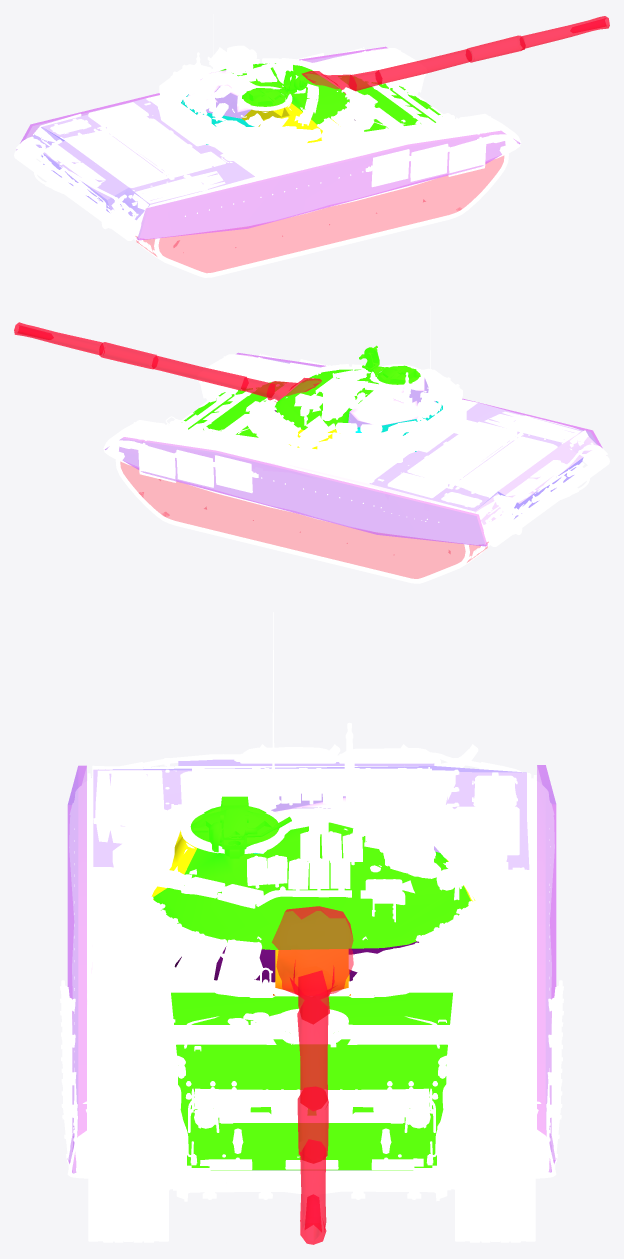
3 renders of one model, top to bottom at view 1: azimuth 30°, elevation 25°; view 2: azimuth 150°, elevation 25°; view 3: azimuth 270°, elevation 25°, orthographic. The views are drawn at different scales.
Visible parts, largest first — view 1: 11, 11_3, T72B3_track_right_col_71, T72B3_sideskirt_col_right_77, 11_1, T72B3_Gun_ColMesh_50, T72B3_Col_3, T72B3_Col, T72B3_Turret_Col, T72B3_Col_1, T72B3_Turret_Col_1, NSVCupola_Mount_Col_80 (+2 smaller); view 2: 11, 11_3, T72B3_track_left_col_65, T72B3_sideskirt_col_left_74, 11_2, T72B3_Gun_ColMesh_50, T72B3_Col_3, T72B3_Col, T72B3_Turret_Col, T72B3_Turret_Col_1, T72B3_Col_1, NSVCupola_Mount_Col_80 (+1 smaller); view 3: 11, 11_3, T72B3_Col_1, T72B3_Turret_Col, T72B3_Gun_ColMesh_50, T72B3_Col, T72B3_sideskirt_col_right_77, T72B3_sideskirt_col_left_74, T72B3_Col_3, 11_2, 11_1, NSVCupola_Mount_Col_80 (+3 smaller).
Part boxes in pixels (<box>): 11: <box>14,47,521,269</box>; 11_3: <box>157,14,377,158</box>; T72B3_track_right_col_71: <box>135,156,503,272</box>; T72B3_sideskirt_col_right_77: <box>136,130,520,240</box>; 11_1: <box>135,135,508,277</box>; T72B3_Gun_ColMesh_50: <box>301,16,609,93</box>; T72B3_Col_3: <box>32,98,254,220</box>; T72B3_Col: <box>137,73,456,219</box>; T72B3_Turret_Col: <box>220,63,349,124</box>; T72B3_Col_1: <box>338,75,440,131</box>; T72B3_Turret_Col_1: <box>188,70,286,118</box>; NSVCupola_Mount_Col_80: <box>242,67,307,106</box>; 11: <box>103,353,609,576</box>; 11_3: <box>248,306,466,464</box>; T72B3_track_left_col_65: <box>120,462,488,578</box>; T72B3_sideskirt_col_left_74: <box>105,437,487,546</box>; 11_2: <box>115,459,488,583</box>; T72B3_Gun_ColMesh_50: <box>14,322,321,402</box>; T72B3_Col_3: <box>369,402,597,524</box>; T72B3_Col: <box>184,379,483,524</box>; T72B3_Turret_Col: <box>275,369,378,429</box>; T72B3_Turret_Col_1: <box>348,366,436,427</box>; T72B3_Col_1: <box>184,381,286,437</box>; NSVCupola_Mount_Col_80: <box>359,345,420,384</box>; 11: <box>60,744,563,1201</box>; 11_3: <box>99,612,520,997</box>; T72B3_Col_1: <box>171,992,452,1170</box>; T72B3_Turret_Col: <box>153,822,470,949</box>; T72B3_Gun_ColMesh_50: <box>272,906,353,1244</box>; T72B3_Col: <box>78,766,534,1086</box>; T72B3_sideskirt_col_right_77: <box>67,765,86,1173</box>; T72B3_sideskirt_col_left_74: <box>537,765,556,1172</box>; T72B3_Col_3: <box>93,759,529,869</box>; 11_2: <box>455,875,535,1242</box>; 11_1: <box>88,908,168,1242</box>; NSVCupola_Mount_Col_80: <box>190,796,291,858</box>.
Size of what is drawn, in the model's own units: 9.37 by 3.61 by 3.78.
